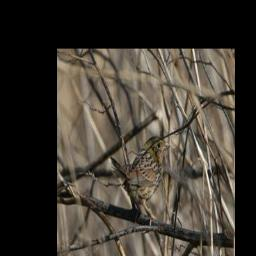Sparrow: (109, 132, 172, 226)
